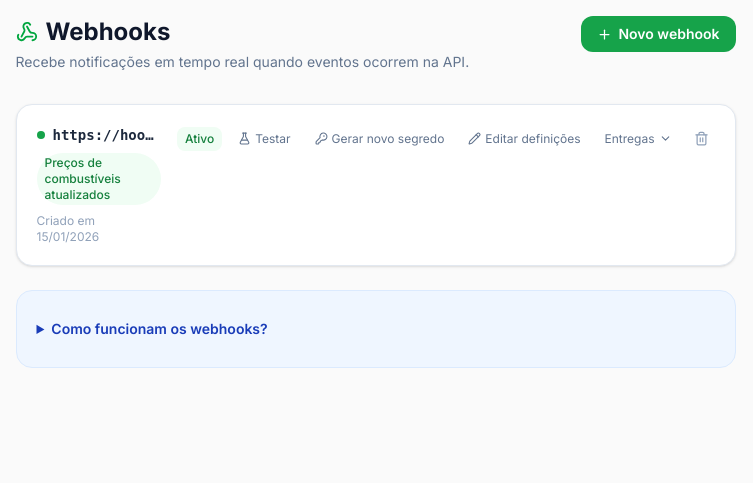
Webhooks page › shows a simple message when rotate-secret fails
Click the button "Gerar novo segredo". click: (380, 138)
box: top-left (307, 126), bottom-right (452, 150)
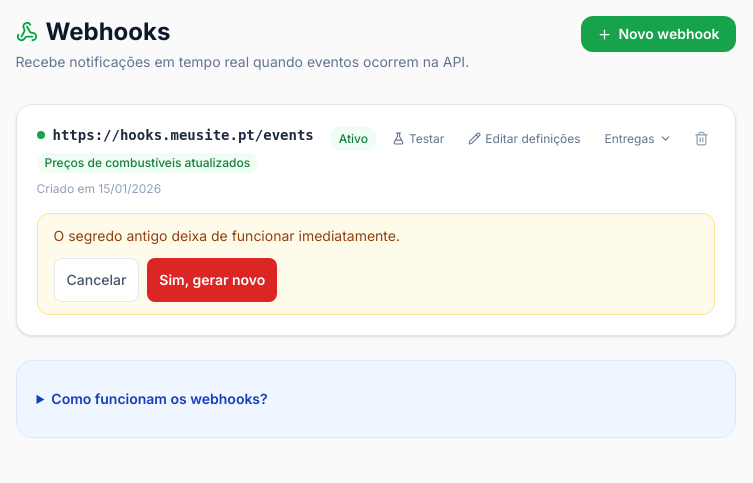
Click the button "Sim, gerar novo". click: (212, 280)
box: top-left (147, 258), bottom-right (277, 302)
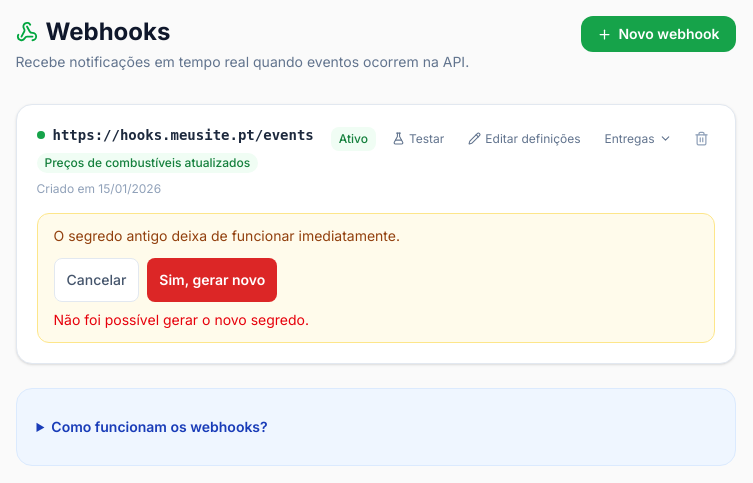
Now the message reads "Não foi possível gerar o novo segredo.", box top-left (54, 311), bottom-right (309, 328)
